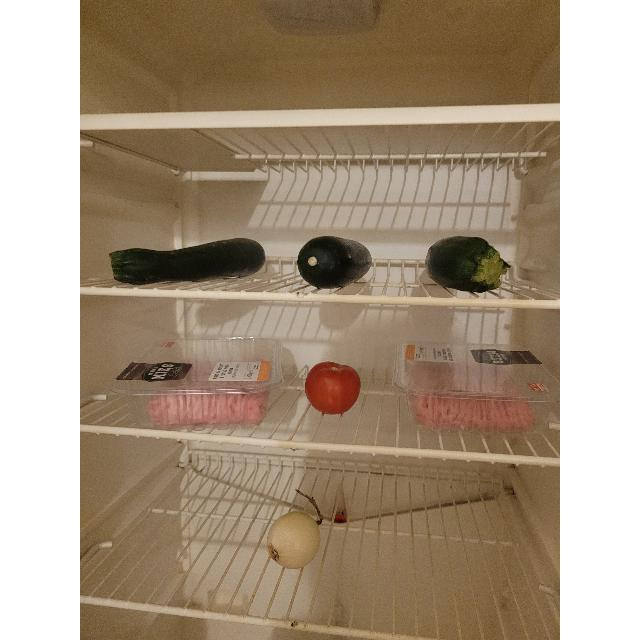meat: (137, 361, 276, 419), (414, 373, 534, 431)
onion: (265, 510, 323, 570)
tomato: (304, 360, 362, 416)
zucchini: (110, 239, 264, 285), (423, 237, 509, 293), (296, 236, 374, 288)
